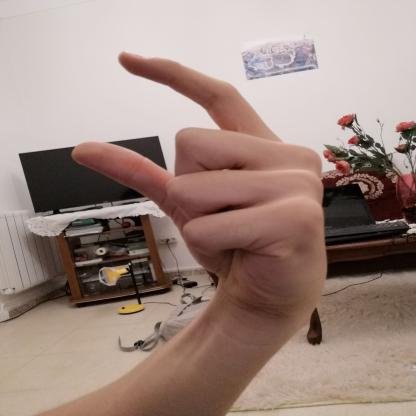DELL: (55, 40, 360, 328)
